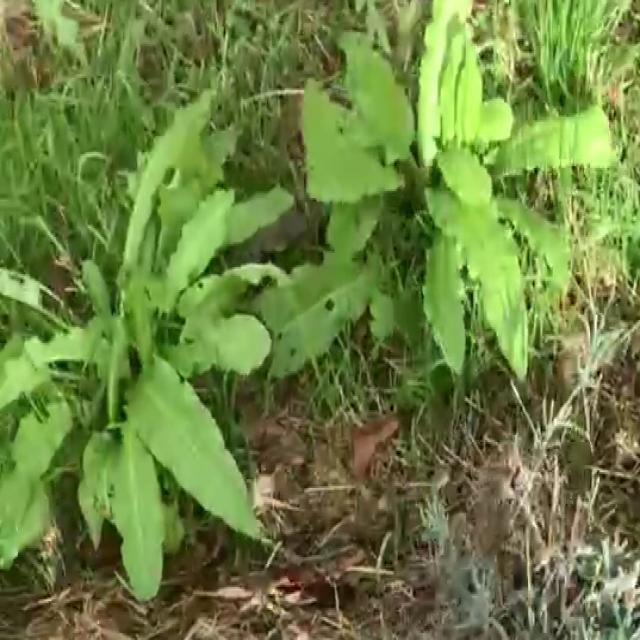organic waste: (0, 105, 298, 622), (293, 0, 613, 407)
